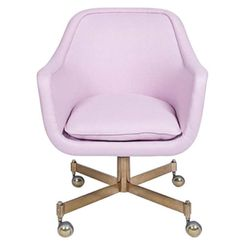chairs: (35, 5, 209, 243)
